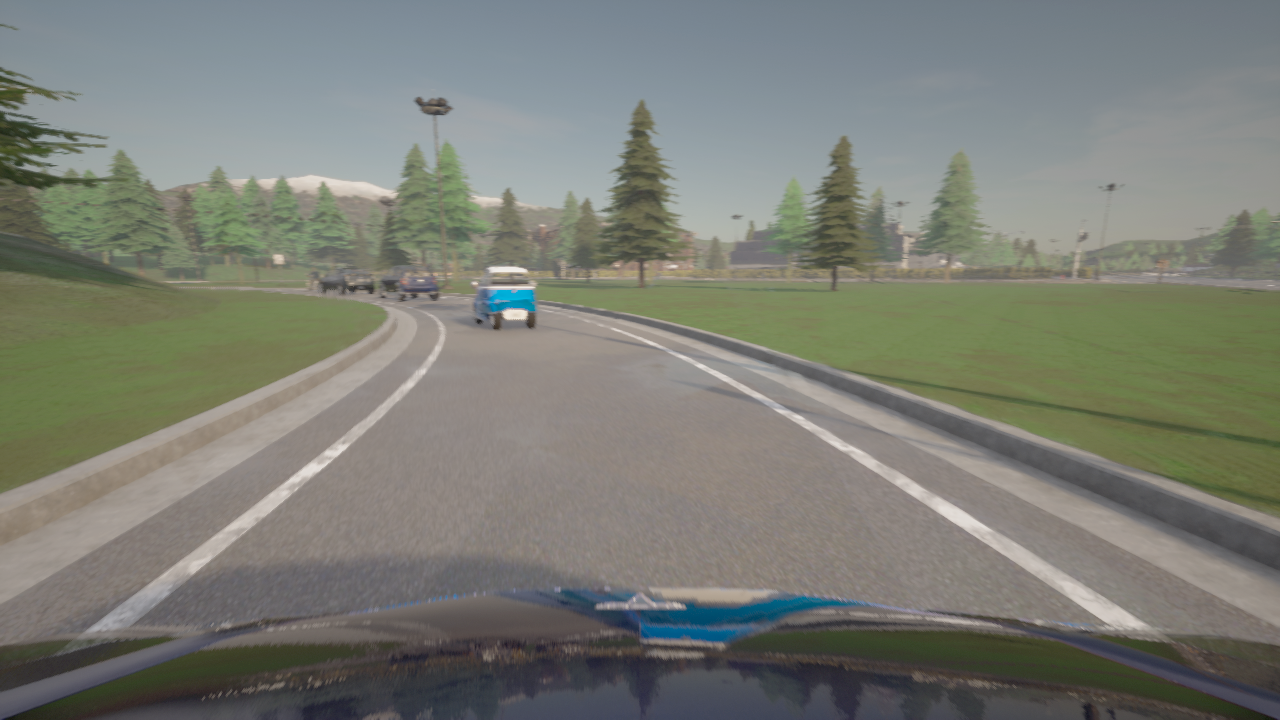cyclist: (0, 588, 1279, 719), (471, 266, 536, 330), (377, 266, 438, 301), (317, 268, 375, 295), (307, 275, 318, 291), (1091, 272, 1092, 273)
